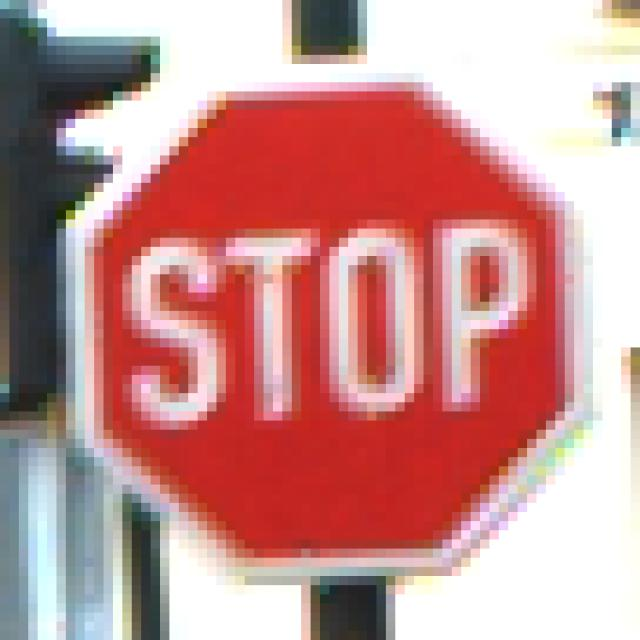STOP: (58, 56, 585, 577)
